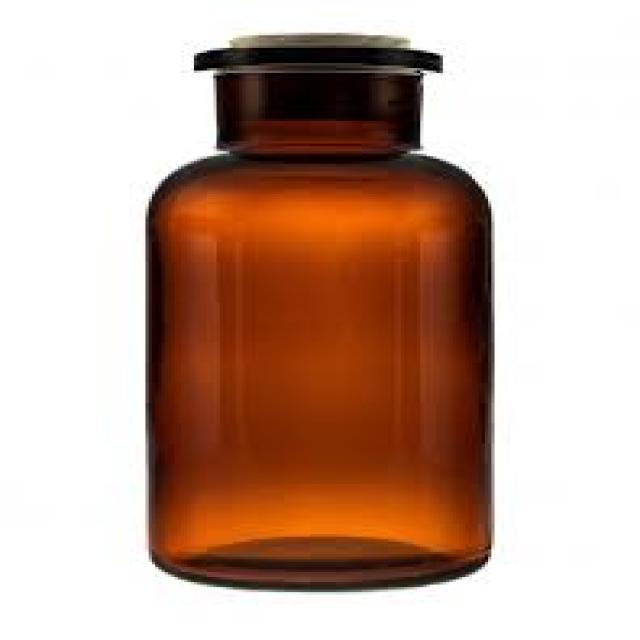glass: (143, 45, 492, 590)
